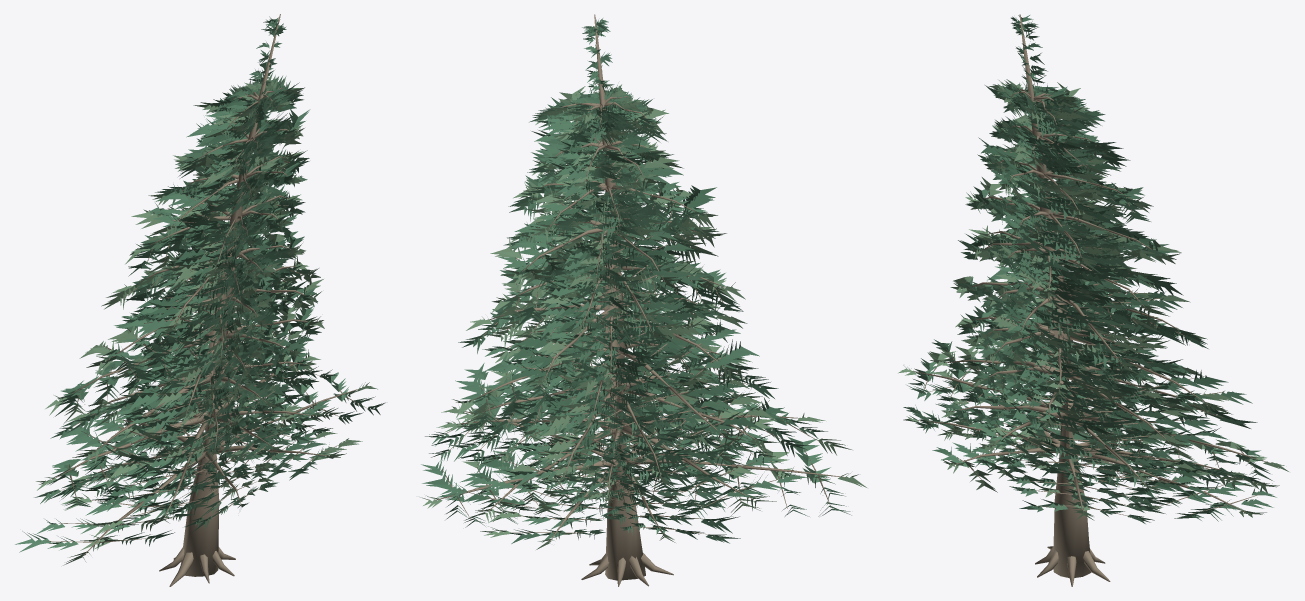
File: cedar_3.glb
3 views of the same model, side by side, from view 1: azimuth 30°, elevation 25°; view 2: azimuth 150°, elevation 25°; view 3: azimuth 270°, elevation 25° (orthographic). The views are drawn at different scales.
Parts seen in each view (by area): view 1: tree_conifer_ConiferLeaf, tree_conifer_ConiferLeafLight, tree_conifer_ConiferBark, tree_conifer_ConiferLeafDark; view 2: tree_conifer_ConiferLeaf, tree_conifer_ConiferLeafLight, tree_conifer_ConiferLeafDark, tree_conifer_ConiferBark; view 3: tree_conifer_ConiferLeaf, tree_conifer_ConiferLeafLight, tree_conifer_ConiferLeafDark, tree_conifer_ConiferBark.
Boxes of the visible parts, x1,y1,x2,y2 form: tree_conifer_ConiferLeaf: (15, 16, 375, 552); tree_conifer_ConiferLeafLight: (36, 72, 377, 565); tree_conifer_ConiferBark: (40, 14, 369, 586); tree_conifer_ConiferLeafDark: (48, 78, 385, 532); tree_conifer_ConiferLeaf: (421, 18, 851, 543); tree_conifer_ConiferLeafLight: (420, 85, 866, 549); tree_conifer_ConiferLeafDark: (431, 84, 808, 543); tree_conifer_ConiferBark: (435, 14, 845, 586); tree_conifer_ConiferLeaf: (907, 15, 1276, 523); tree_conifer_ConiferLeafLight: (898, 79, 1288, 520); tree_conifer_ConiferLeafDark: (903, 84, 1270, 512); tree_conifer_ConiferBark: (911, 14, 1269, 586).
Size of the model in its own units: 10.92 by 14.76 by 9.01.
